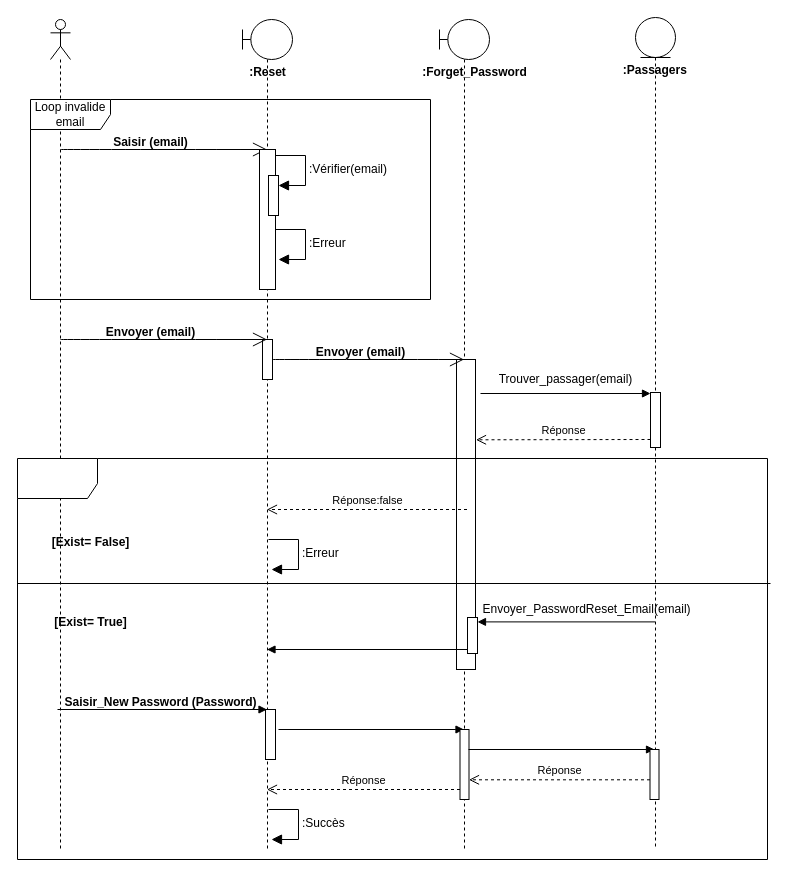
This 788x877 diagram has some shape labels left out. Here are the shapes that lost their labels. From the top down, the box of each, then its label:
(50, 18, 70, 850): :Passager
(16, 458, 768, 860): Alt Existence Passager
